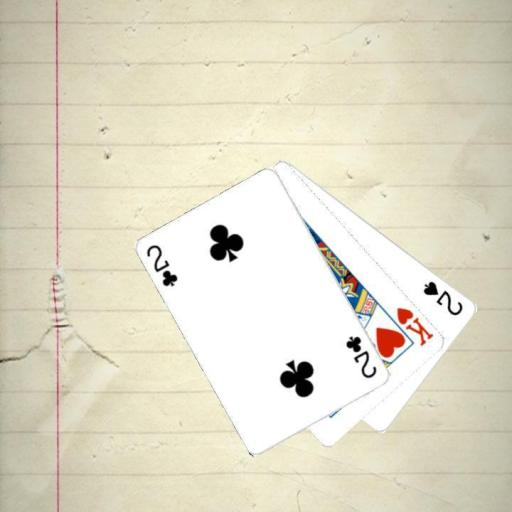card-corner: (393, 304, 435, 348), (420, 277, 465, 317), (144, 241, 180, 289), (343, 333, 379, 380)
